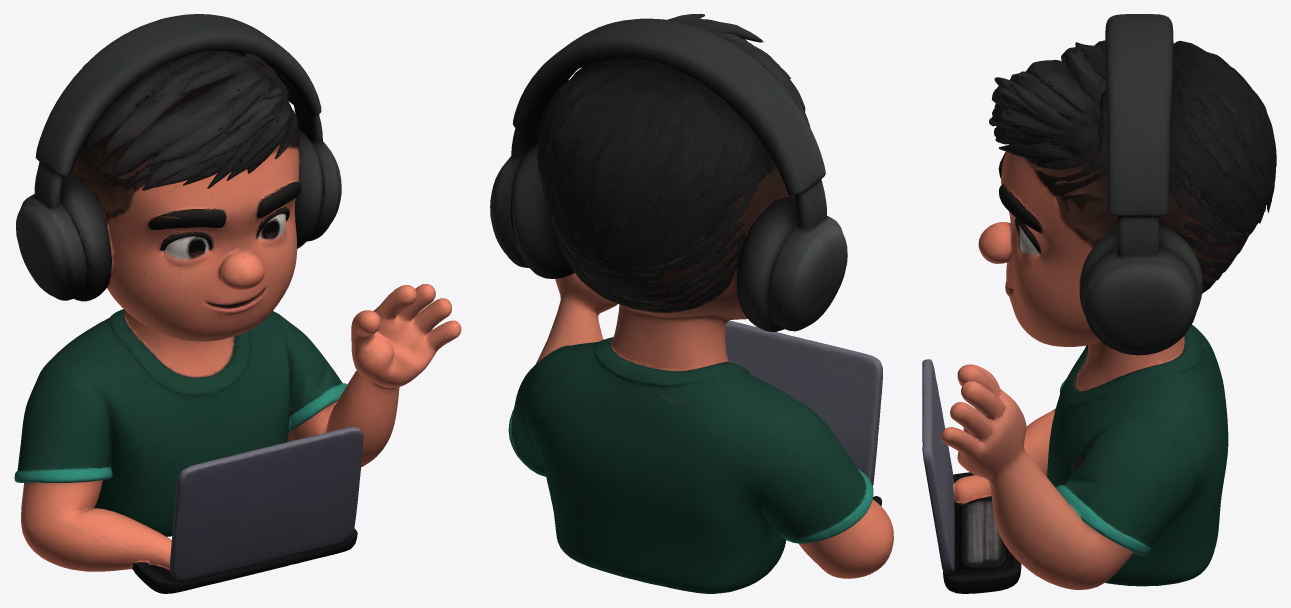
File: sample_2026-11-09T202723.078.glb
The picture shows the model from 3 angles, left to right: view 1: azimuth 30°, elevation 25°; view 2: azimuth 150°, elevation 25°; view 3: azimuth 270°, elevation 25°; orthographic projection. The views are drawn at different scales.
Visible parts, largest first — view 1: world; view 2: world; view 3: world.
Part boxes in pixels (box(x1,y1,x2,y2)): world: box(14, 14, 461, 593); world: box(490, 14, 893, 593); world: box(922, 14, 1276, 593).
Bounding box in the file's own units: 0.8026 × 1 × 0.6193.
1 material, 1 textured.
